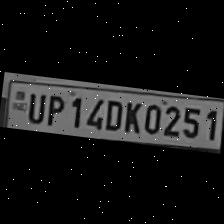0: (140, 99, 162, 135)
1: (63, 92, 85, 128), (200, 104, 221, 140)
2: (160, 101, 182, 137)
4: (82, 92, 104, 129)
5: (178, 101, 201, 138)
D: (102, 94, 124, 132)
K: (119, 98, 142, 134)
P: (42, 90, 66, 127)
U: (22, 88, 46, 123)
